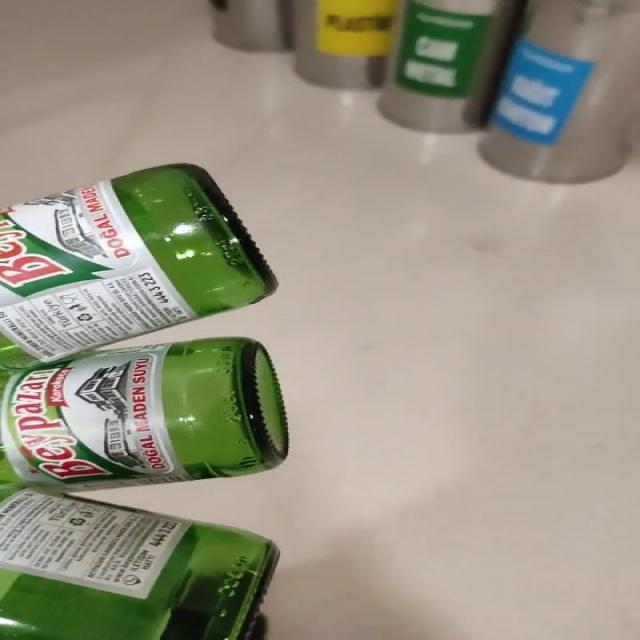Glass: (1, 164, 288, 640)
